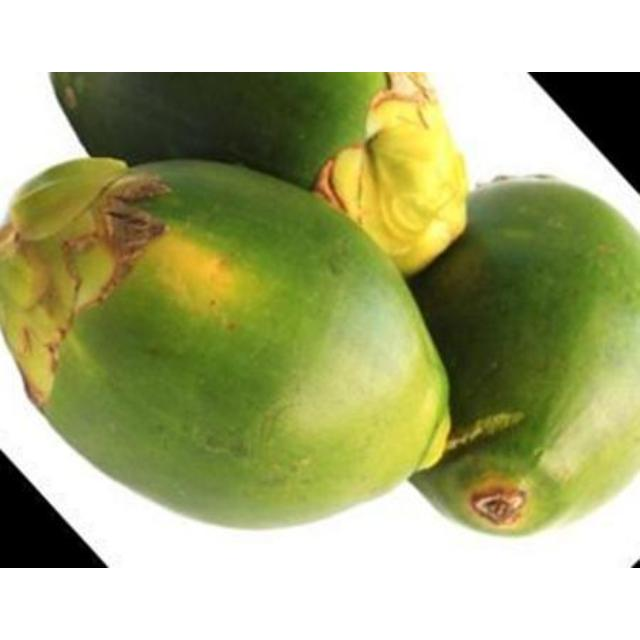good: (0, 157, 452, 533), (404, 179, 639, 538)
